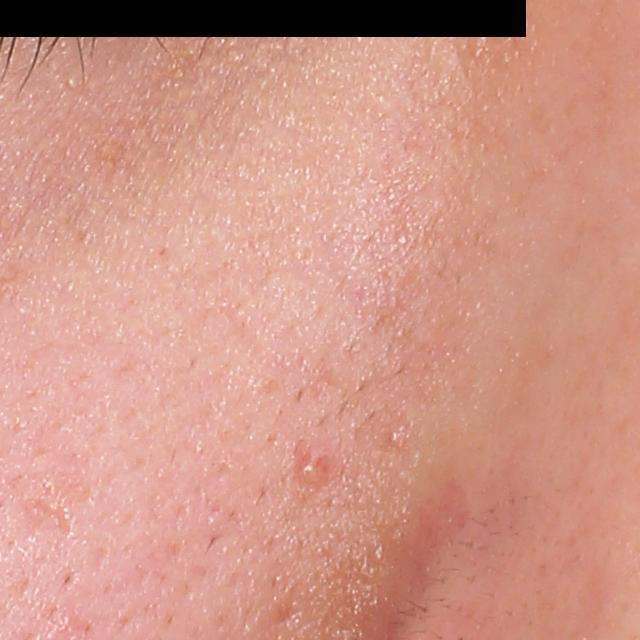pustule: (289, 448, 335, 492)
